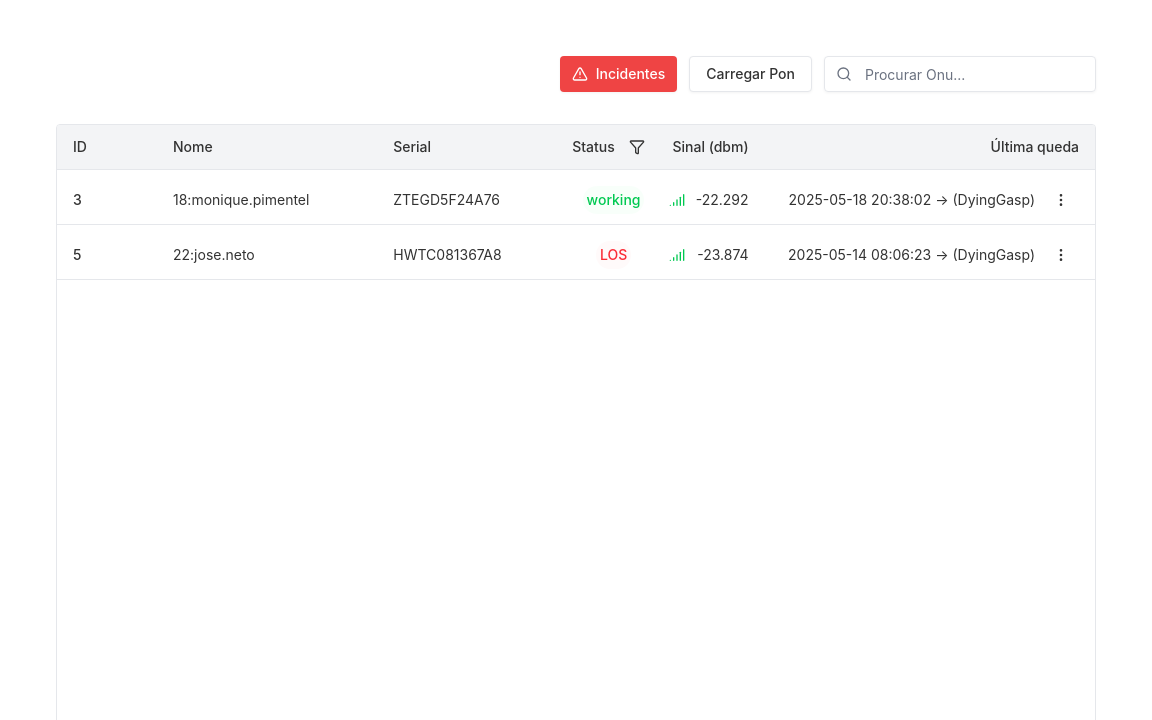
Test case: PonScreen Filtrar por nome e serial › Deve exibir 0 Onus caso pesquisa não corresponda a nenhuma Onu
Note: Digita o texto na barra de busca
In the field named "search-Onu": (960, 74) top-left (824, 56), bottom-right (1096, 92), type "Invalid-Name"
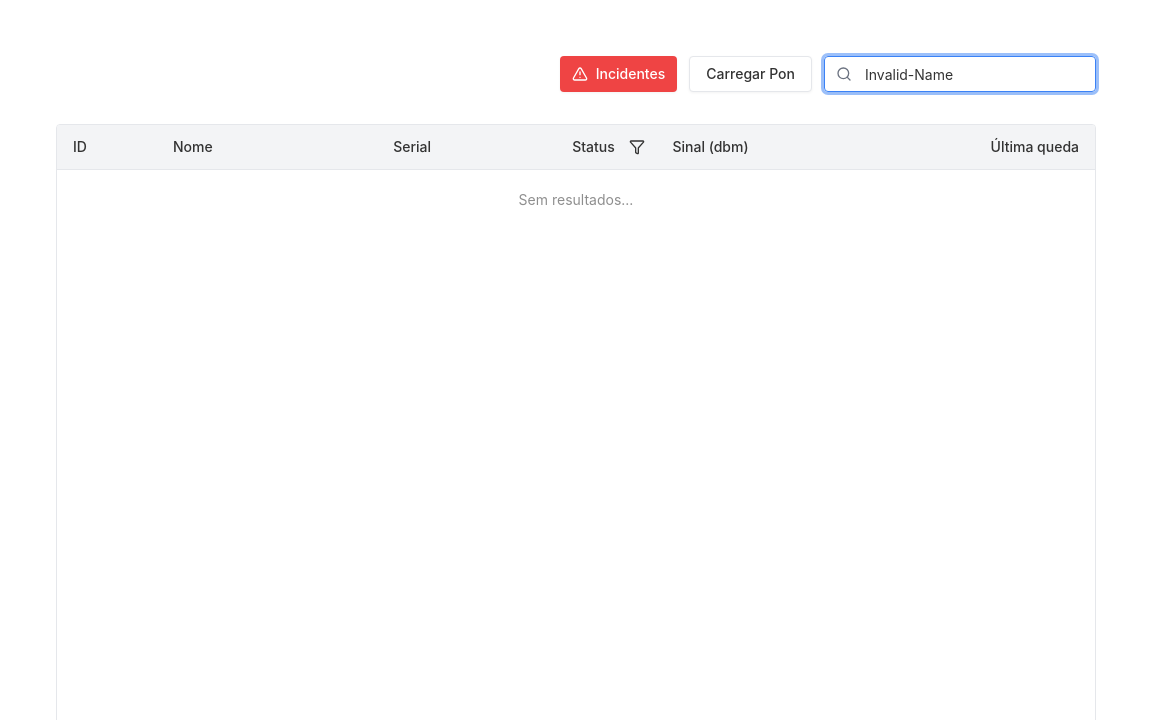
Now no fields labelled "row" are shown
